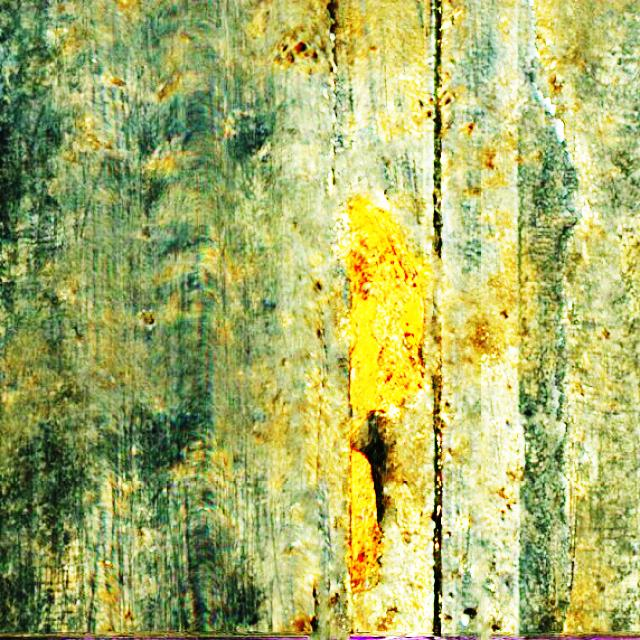Corrosion: (347, 195, 426, 417), (348, 448, 388, 592)
